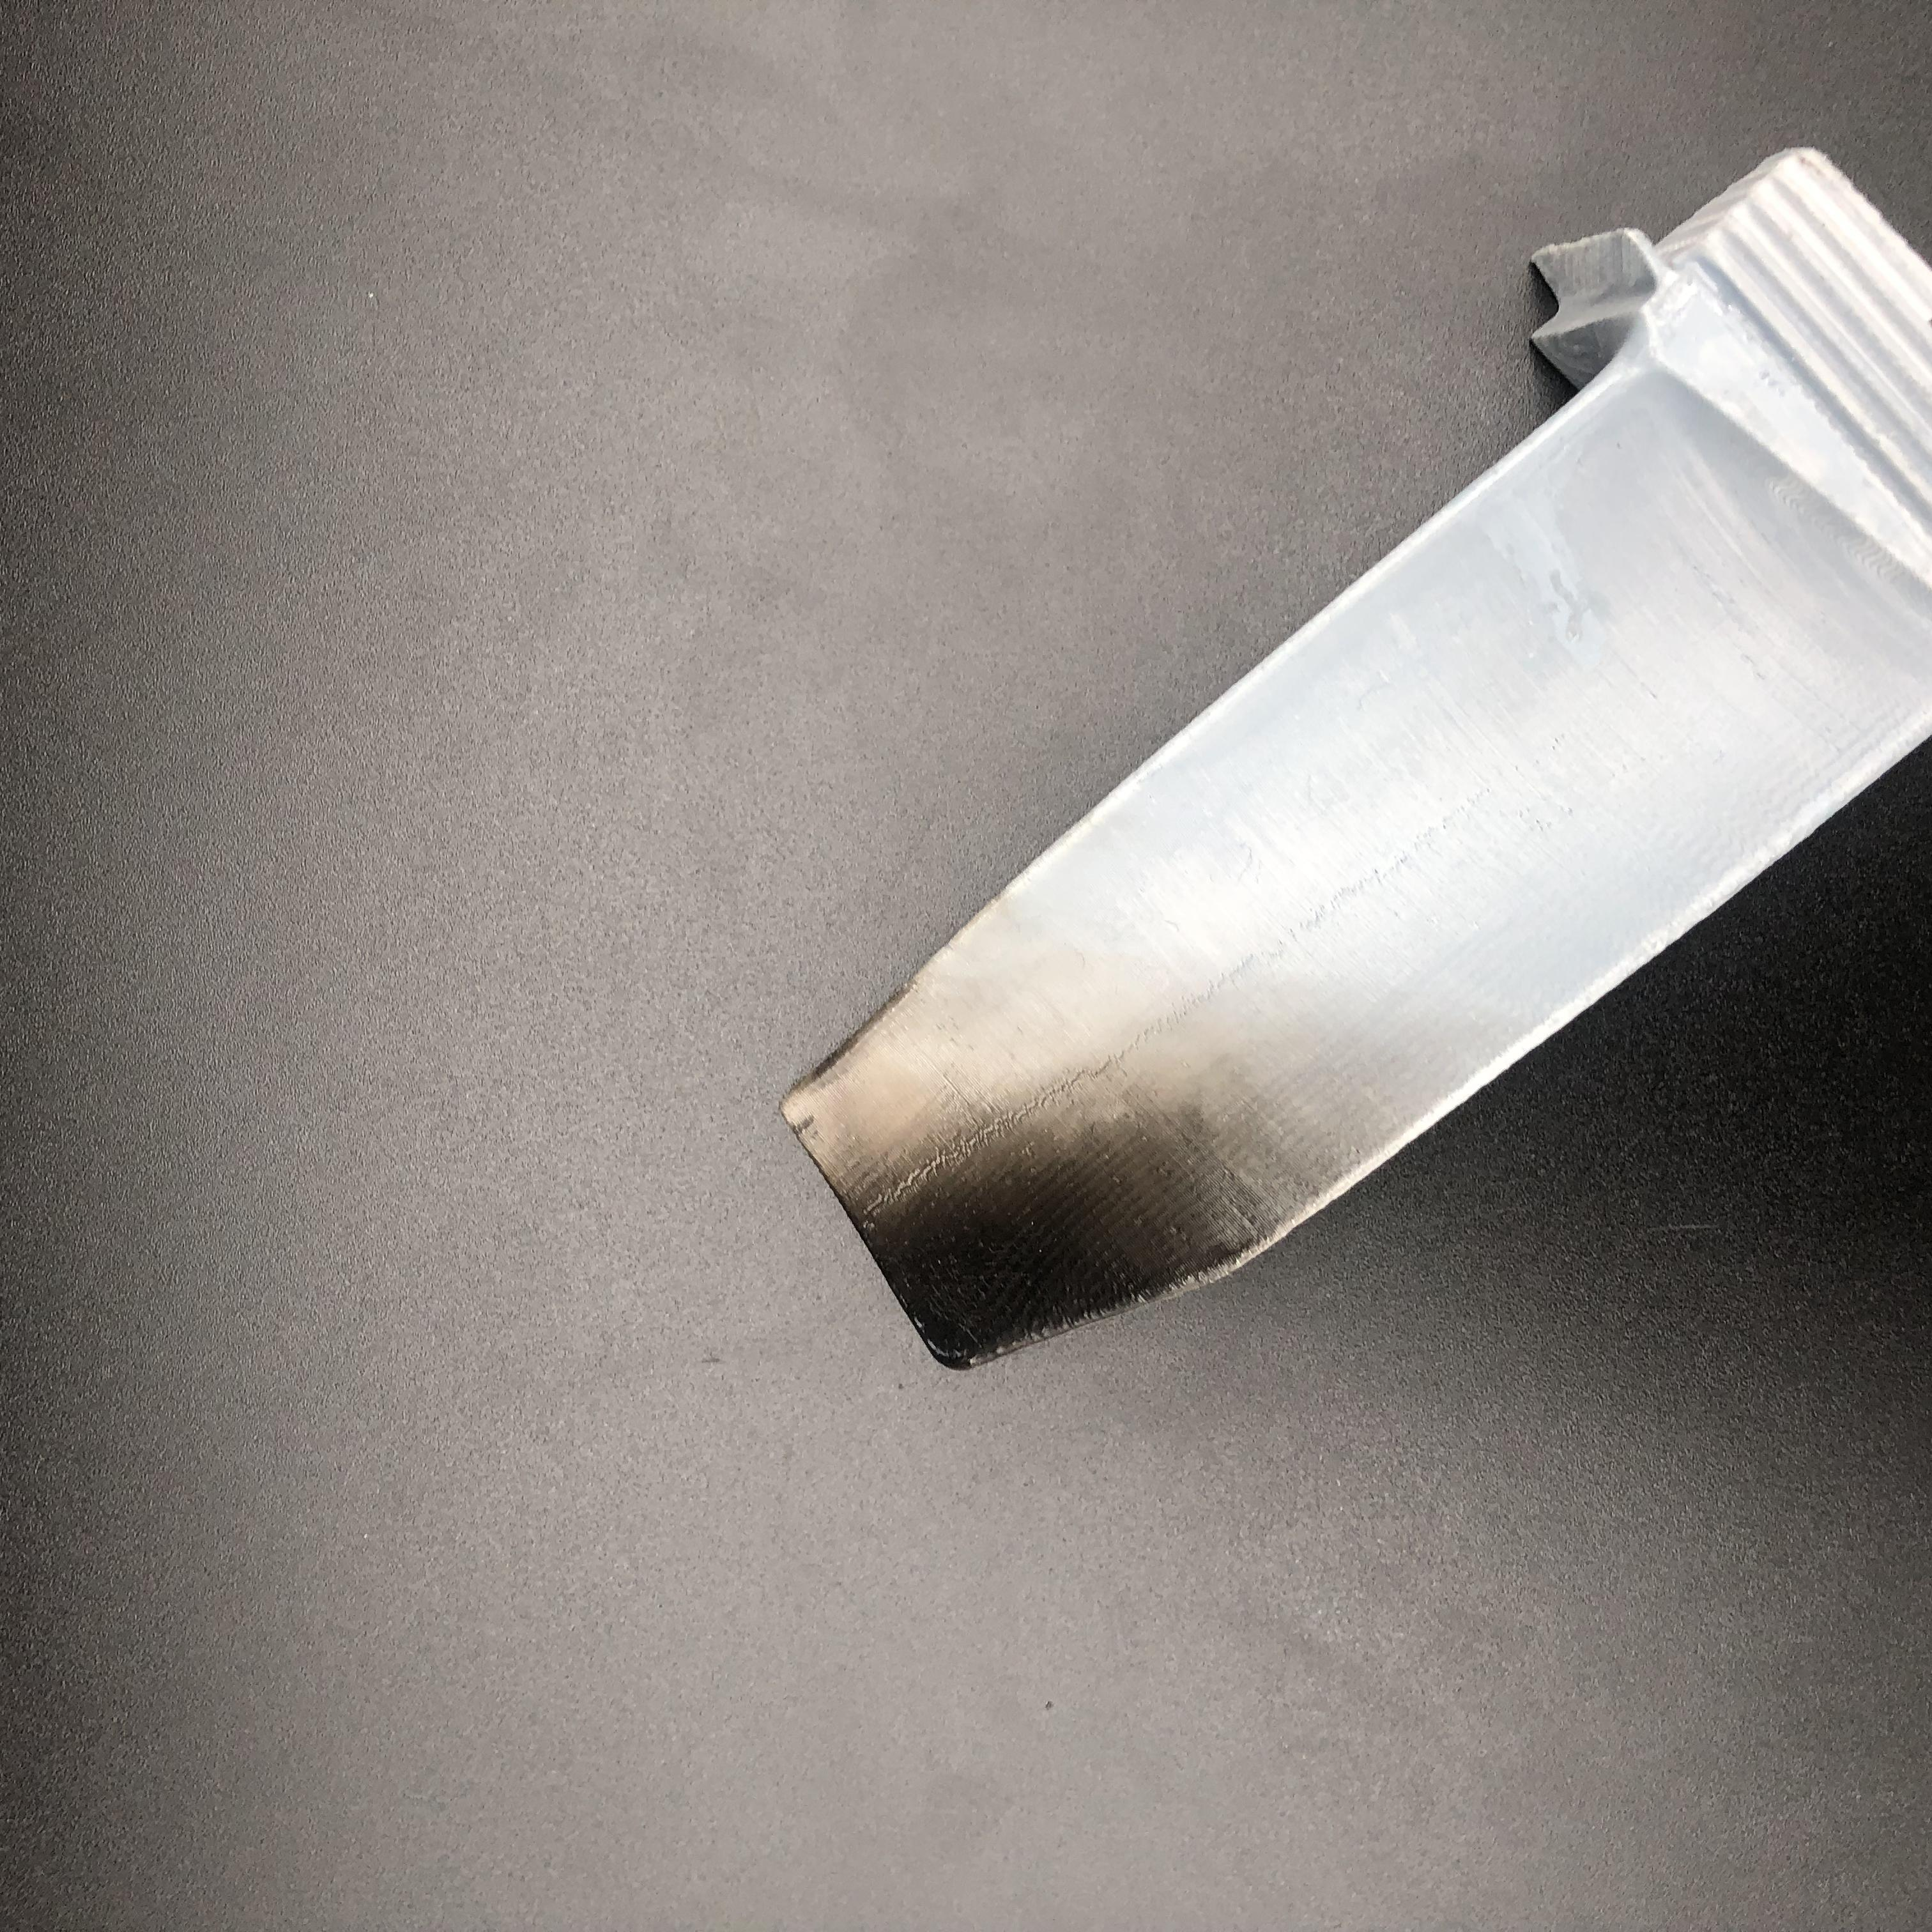ablation: (833, 1076, 1198, 1299)
